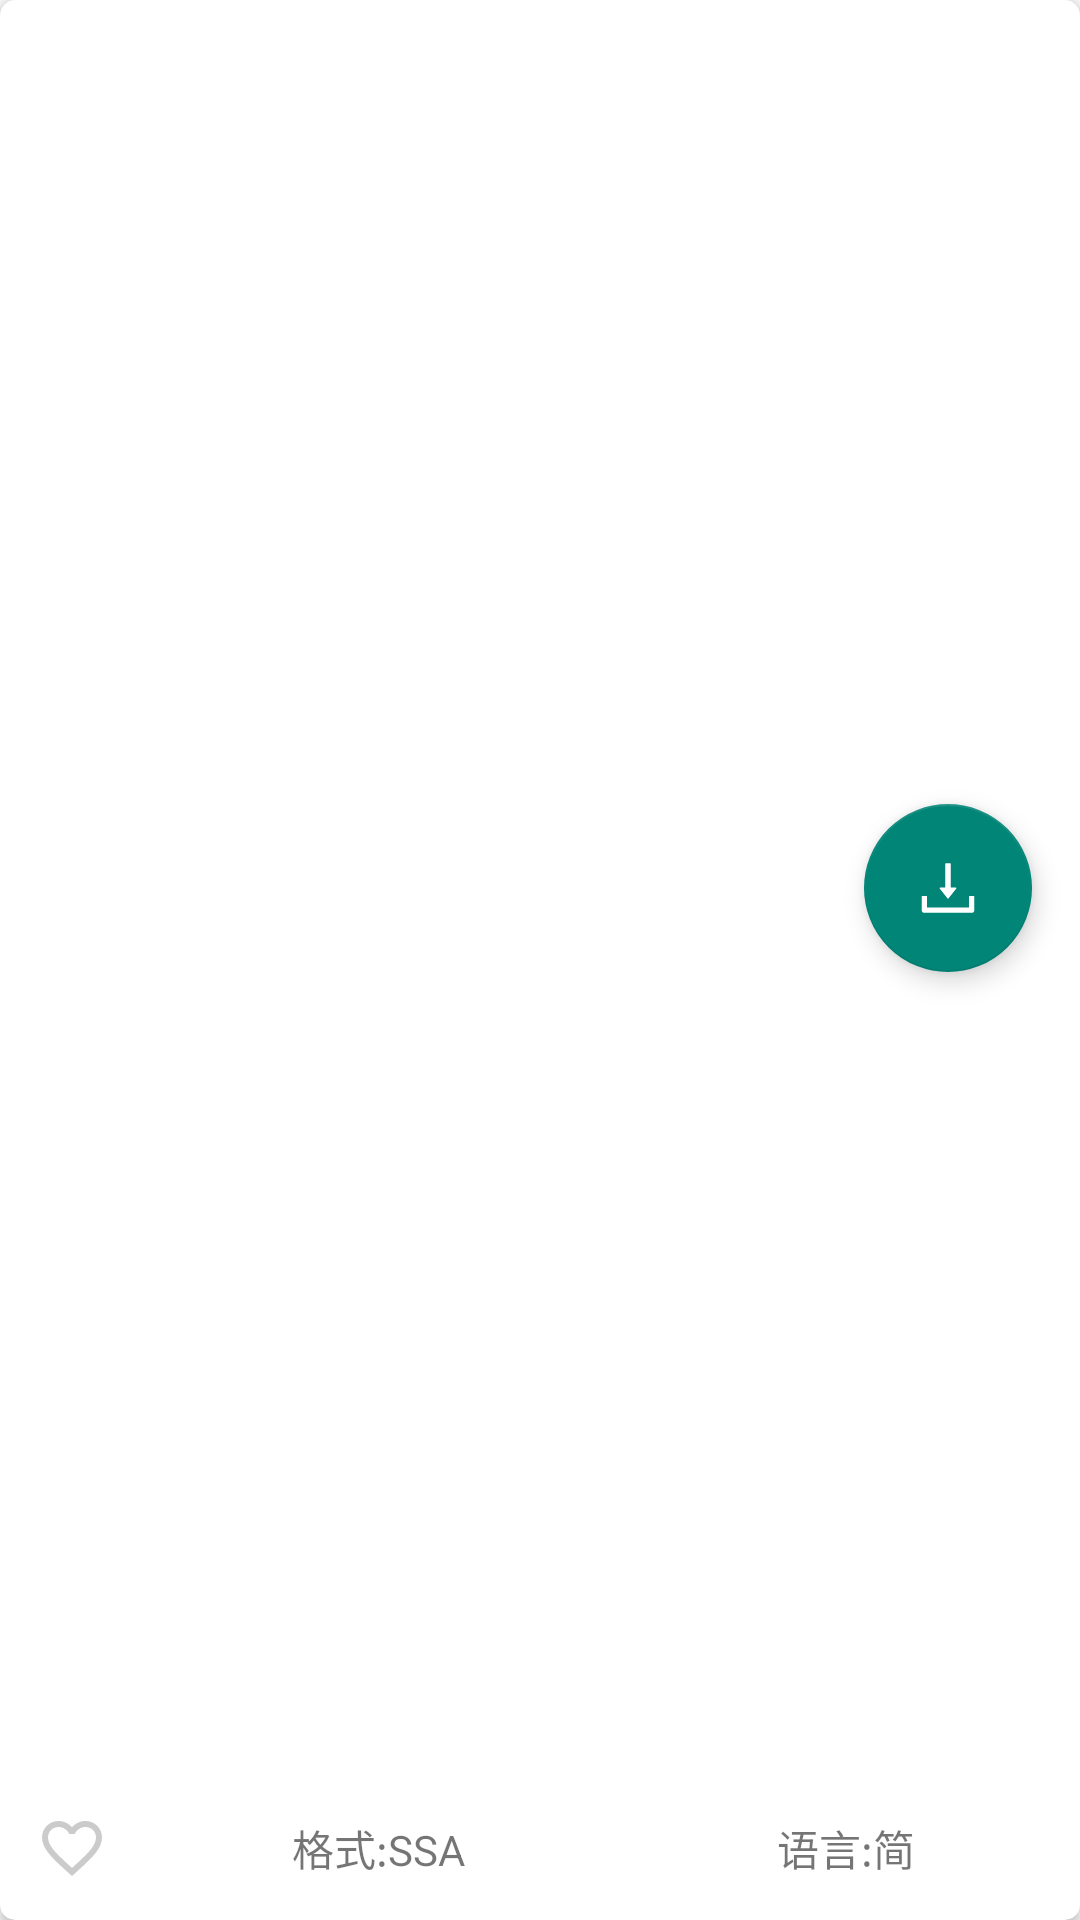

Icons on this 1080w x 1920h Android screen, each with its box as (x1, y1, x2, y2):
download: (864, 804, 1032, 972)
收藏: (0, 1821, 102, 1920)
